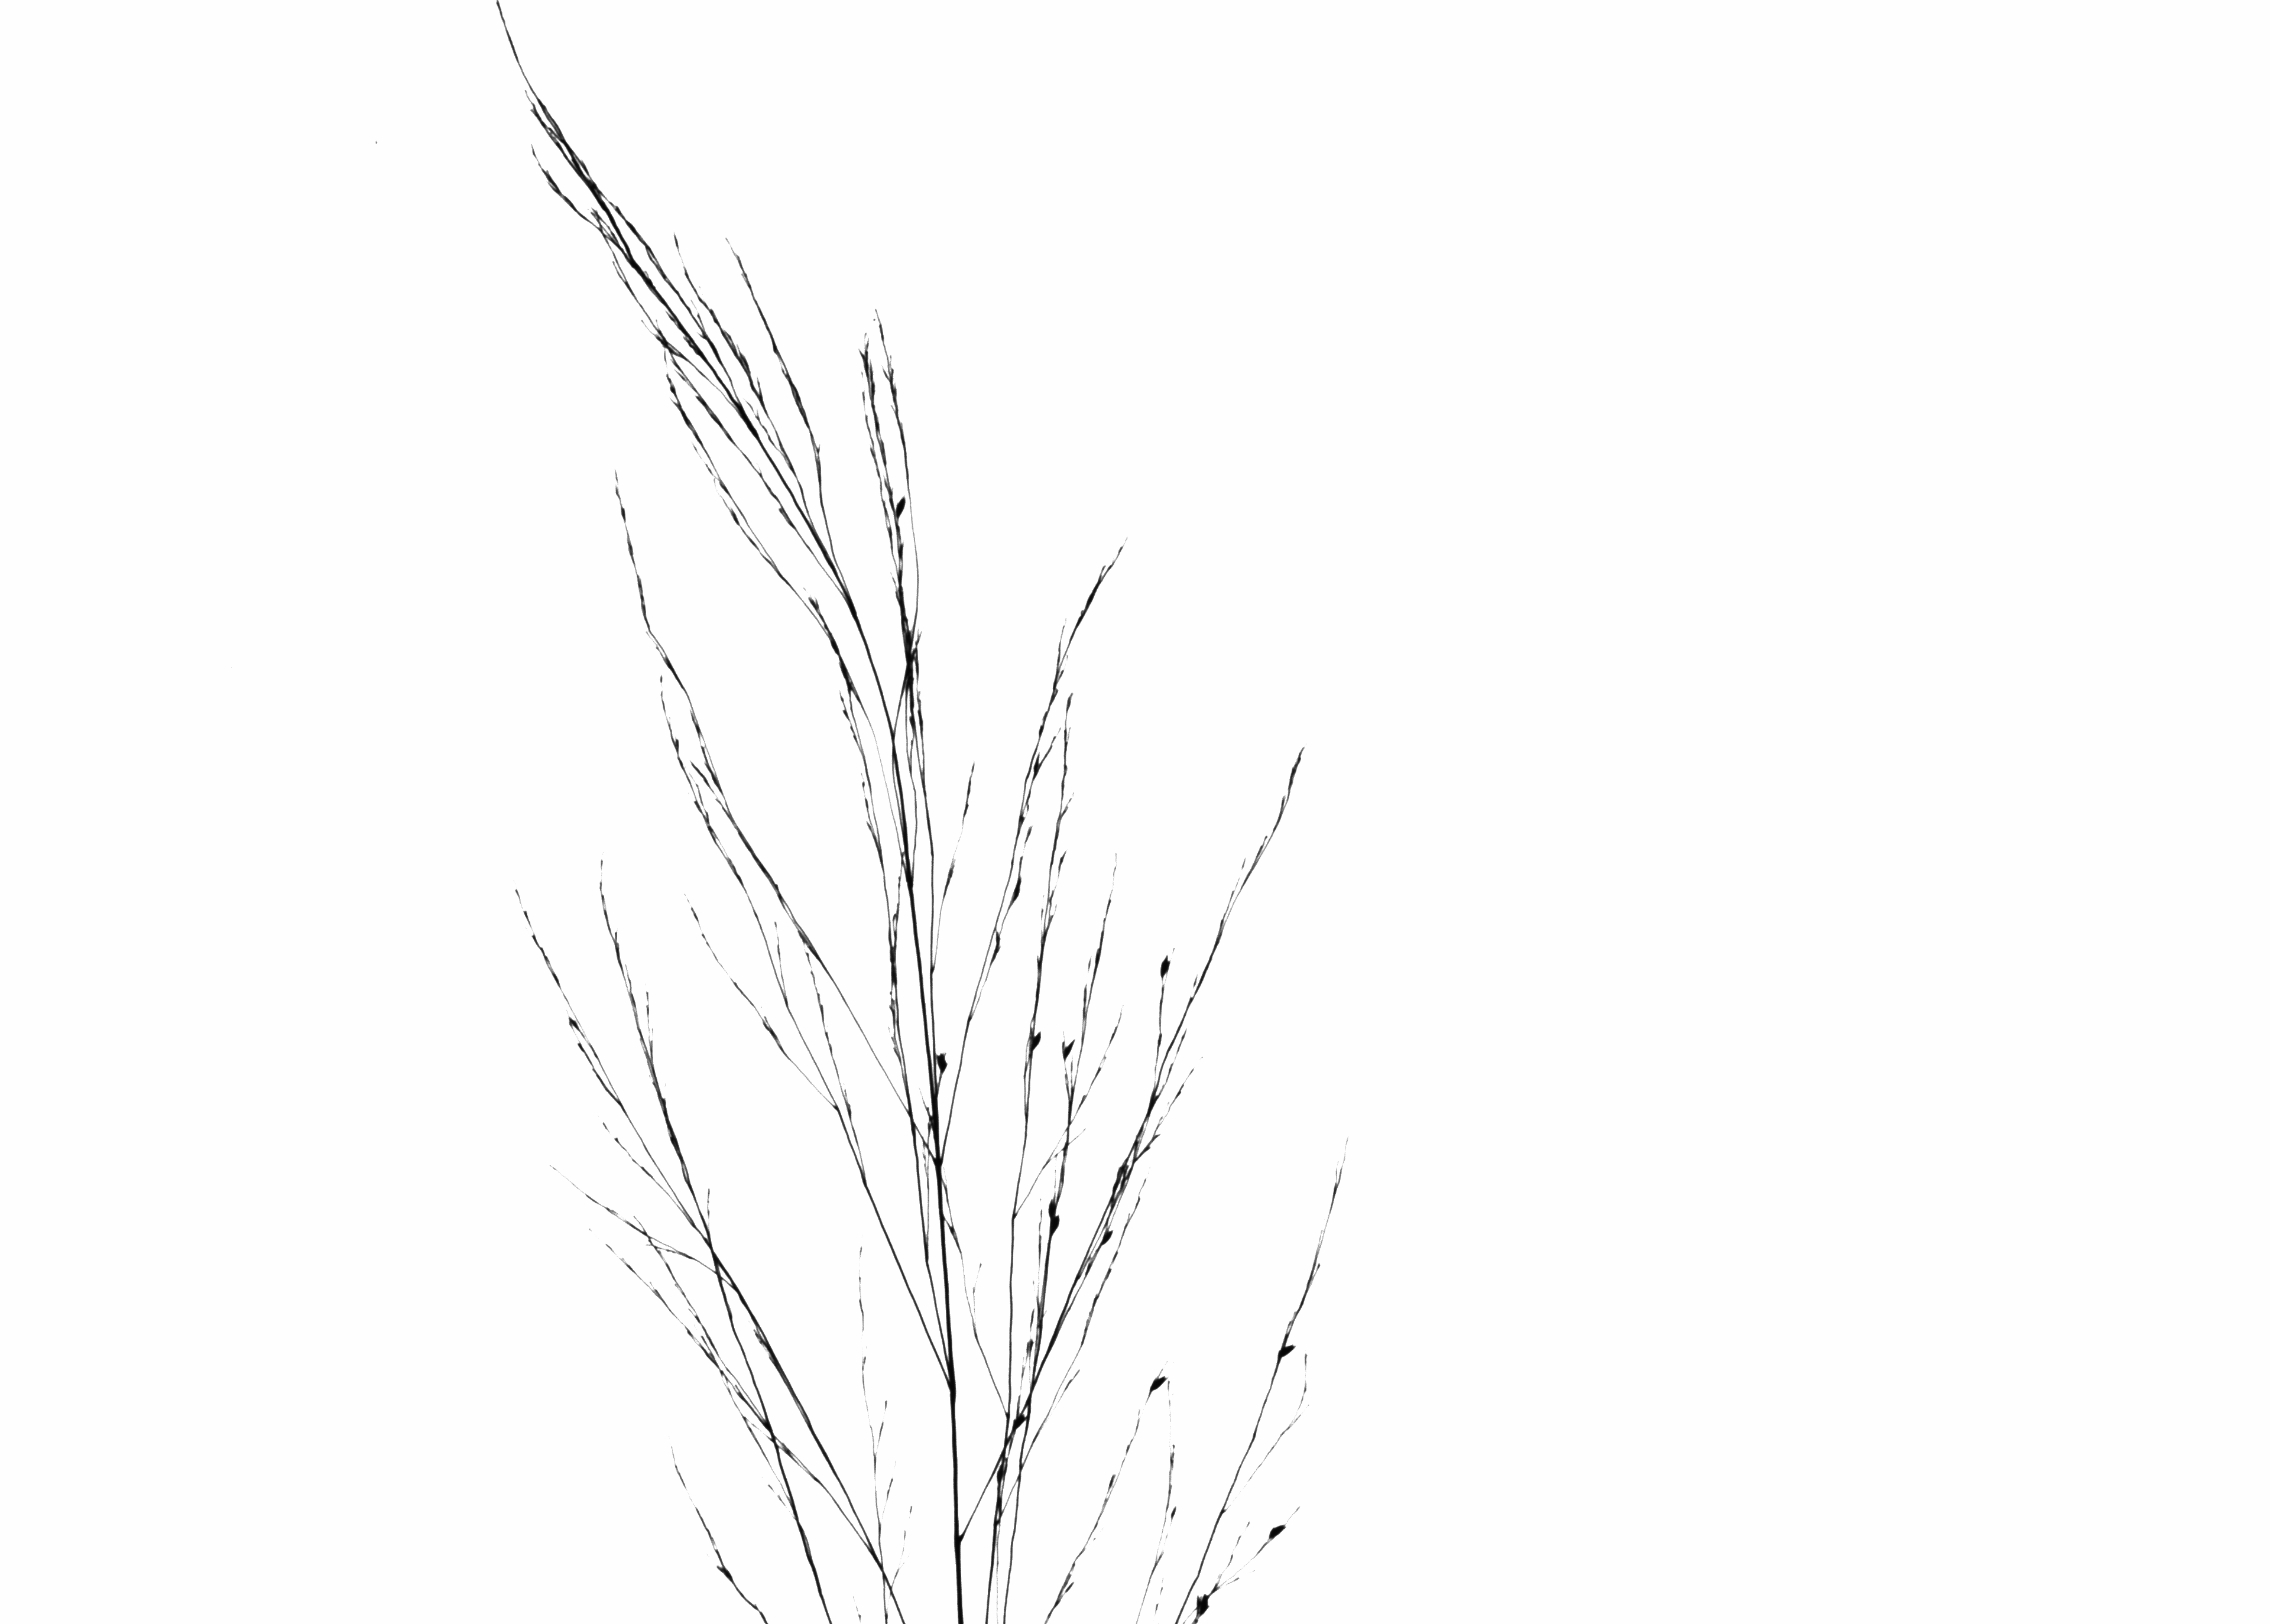seed: (709, 1559, 742, 1585), (1145, 1364, 1169, 1396), (1011, 1399, 1030, 1436), (1157, 947, 1175, 986), (1264, 1515, 1287, 1543), (1271, 1338, 1299, 1359), (891, 492, 911, 522), (934, 1046, 951, 1076), (1194, 1587, 1211, 1617), (1059, 1035, 1078, 1062), (1029, 749, 1044, 777), (1029, 1026, 1044, 1055), (1050, 1213, 1064, 1241), (1043, 1193, 1059, 1218), (1102, 1225, 1117, 1248)
